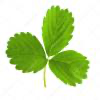Strawberry leaf: (2, 30, 47, 75), (42, 4, 75, 58), (49, 49, 91, 90)
